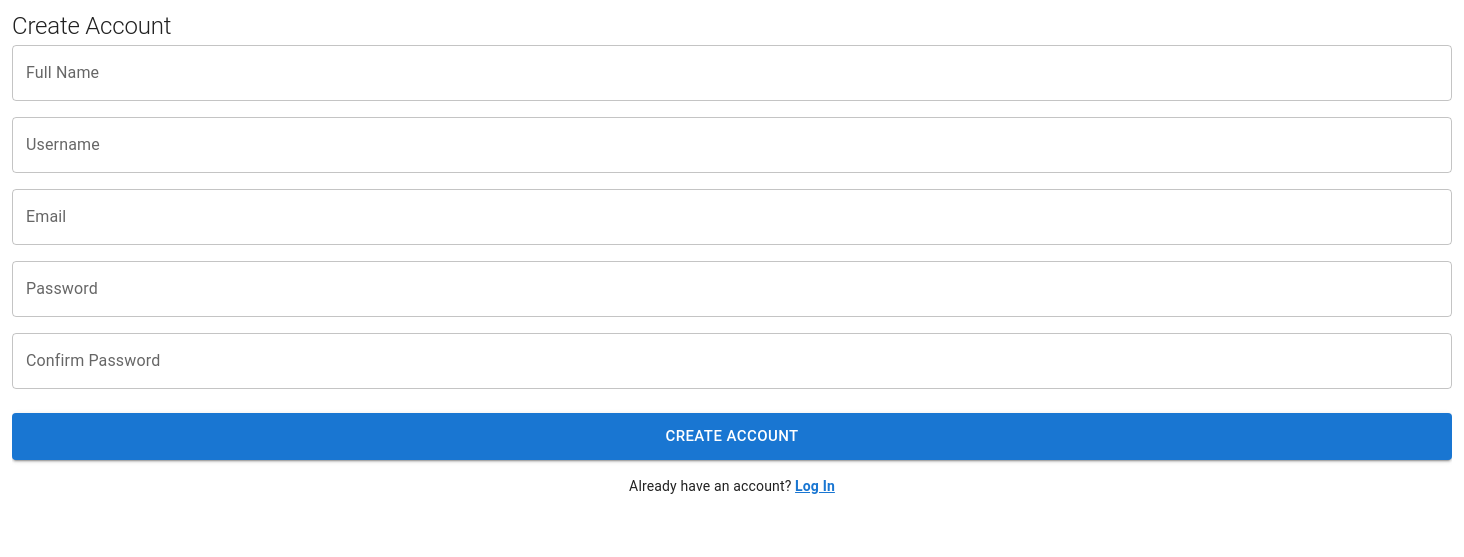
RegisterPage — client-side validation › shows a mismatch error when passwords do not match
This screenshot has width=1464, height=557.
Type "john_doe" into the field labelled "Username" at (732, 145), box [12,117,1452,173]
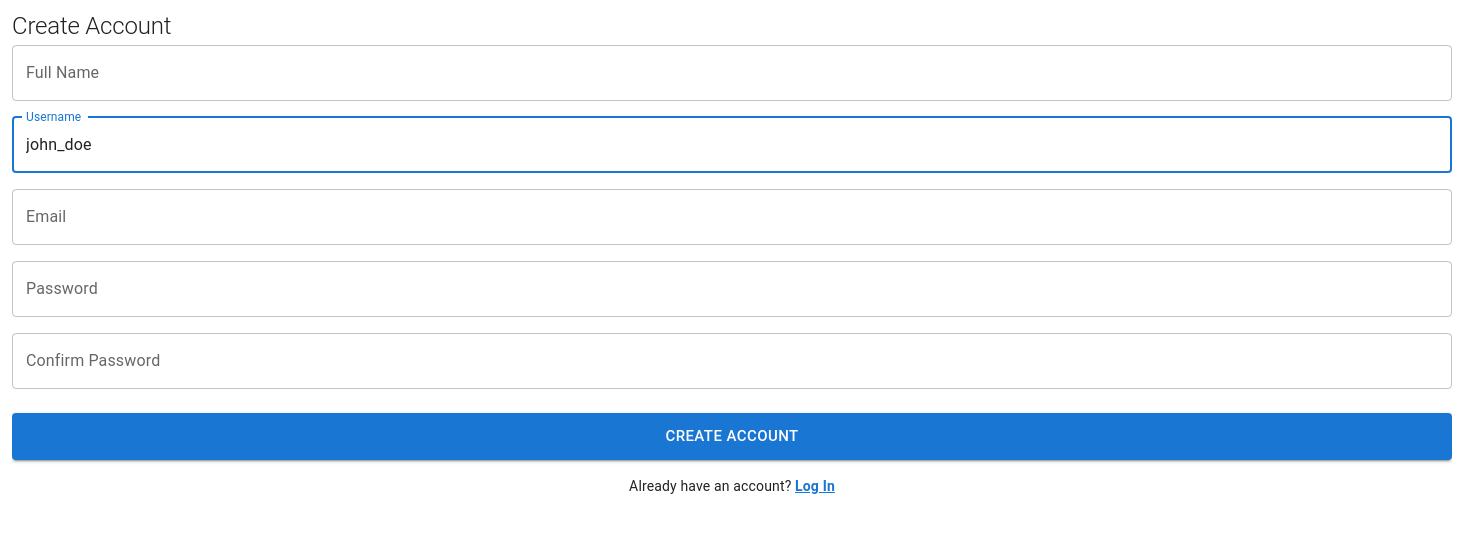
Type "john@example.com" into the field labelled "Email" at (732, 217), box [12,189,1452,245]
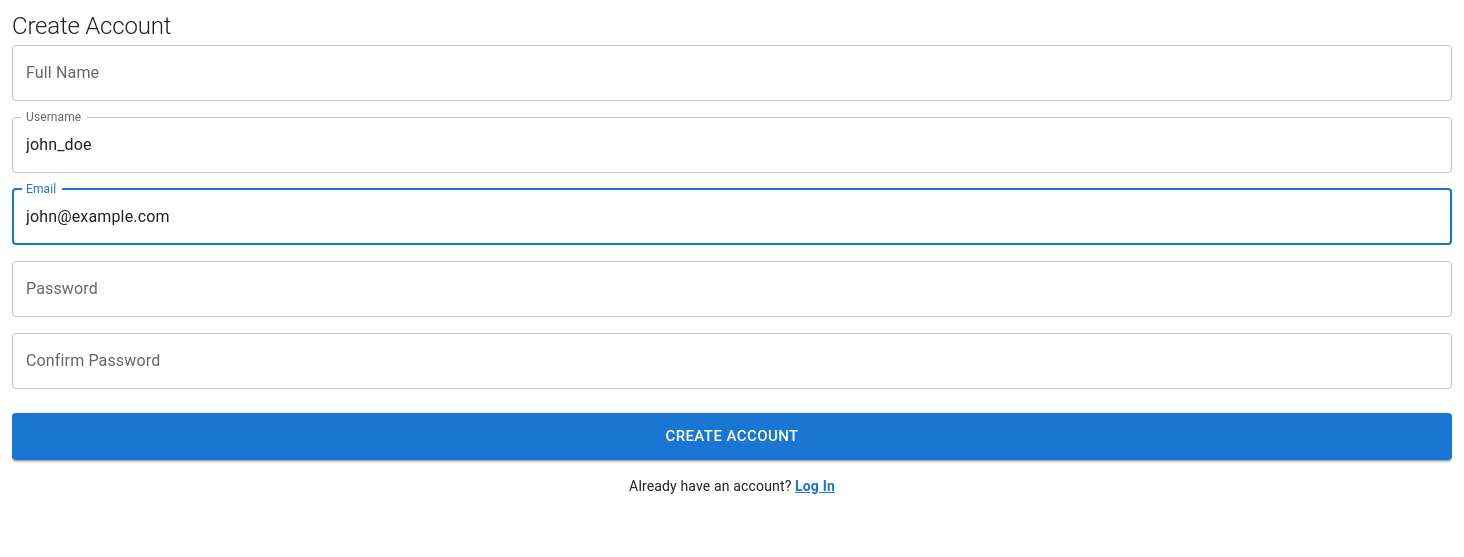
Type "SecurePass1" into the password field labelled "Password" at (732, 289), box [12,261,1452,317]
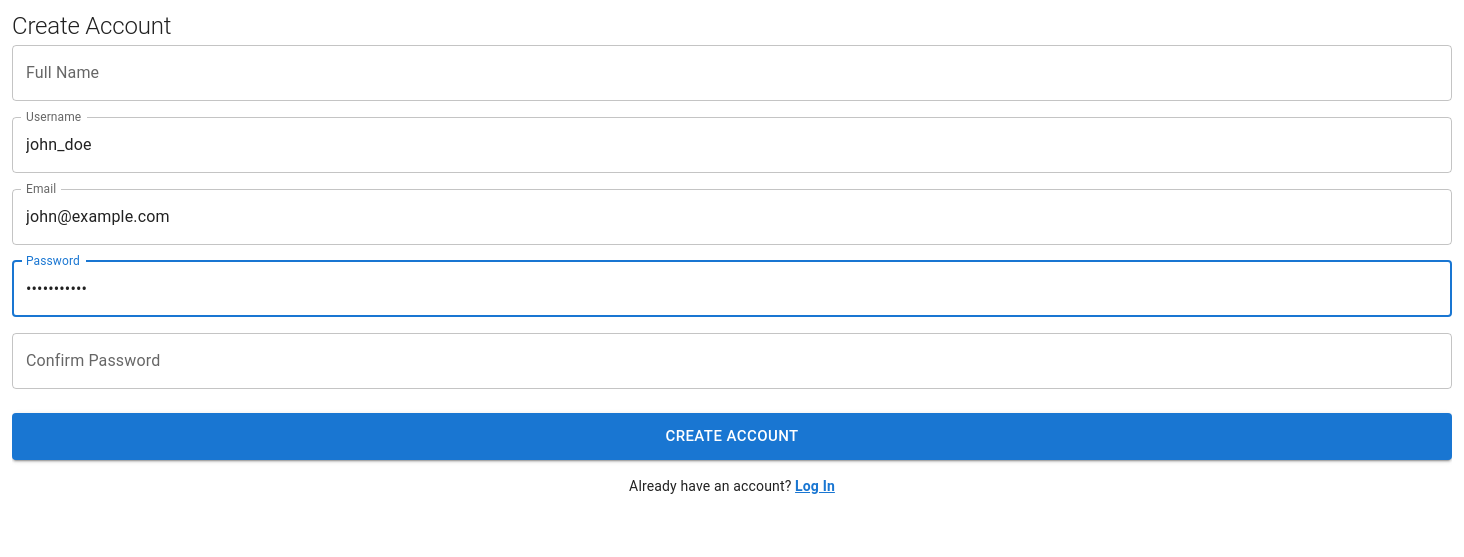
Type "DifferentPass1" into the password field labelled "Confirm Password" at (732, 361), box [12,333,1452,389]
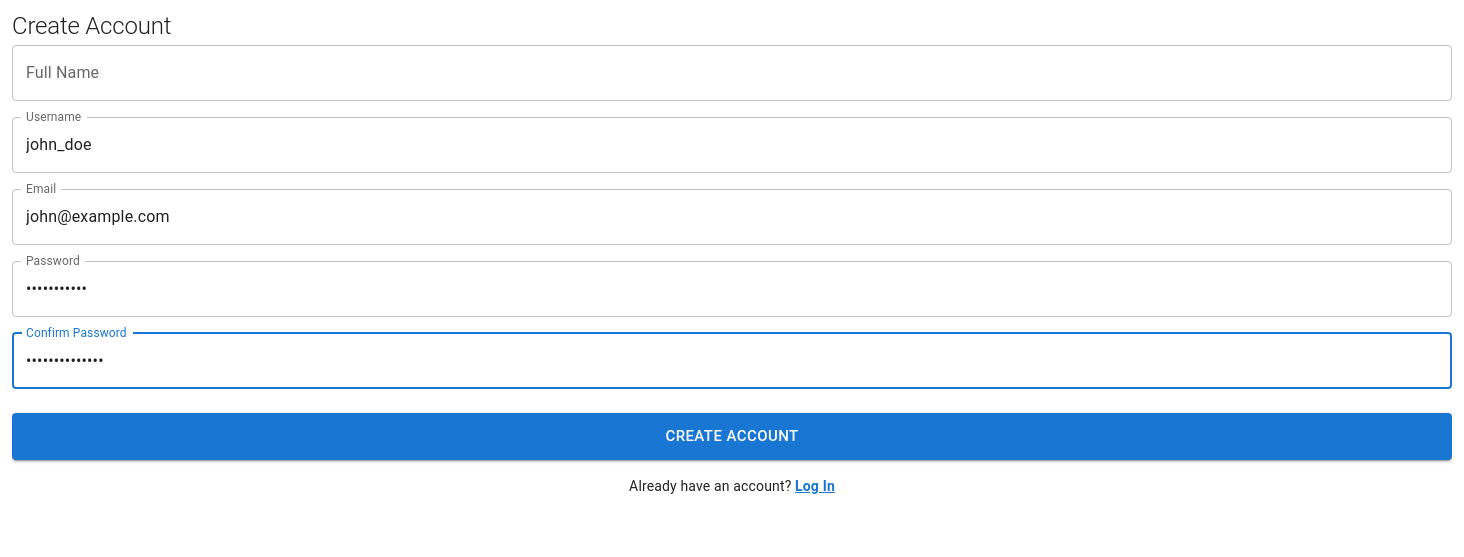
Click the button "Create Account" at (732, 436), box [12,413,1452,460]
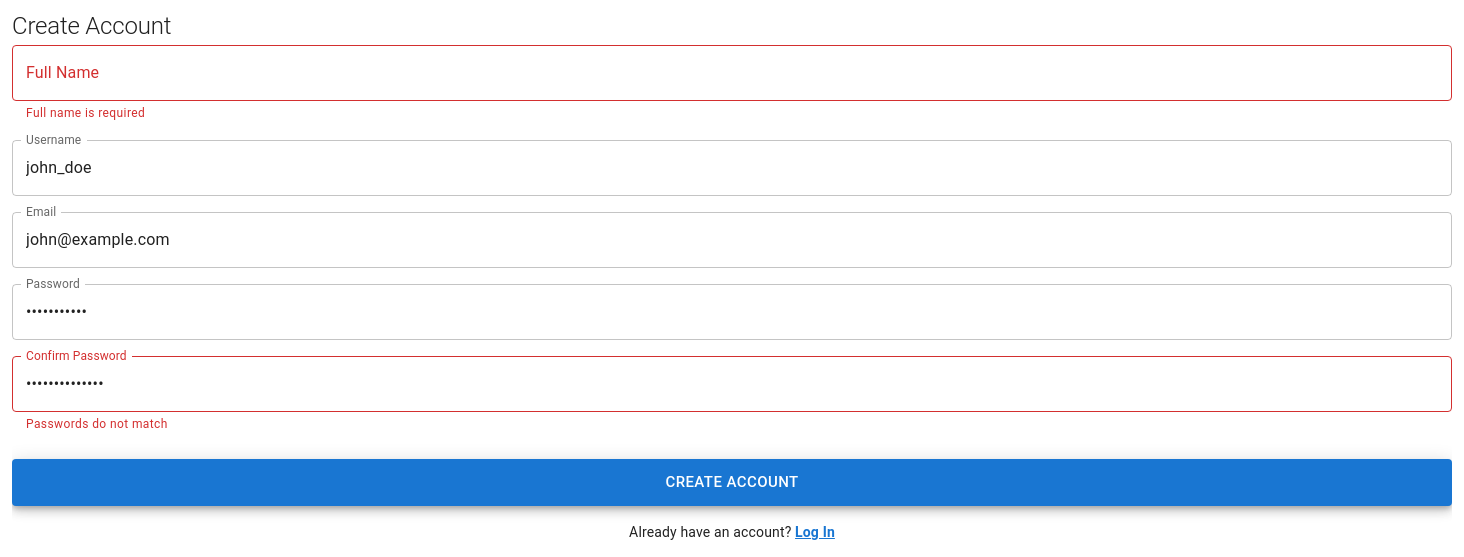
Expected: the text "Passwords do not match" is shown, [26,417,168,431]
